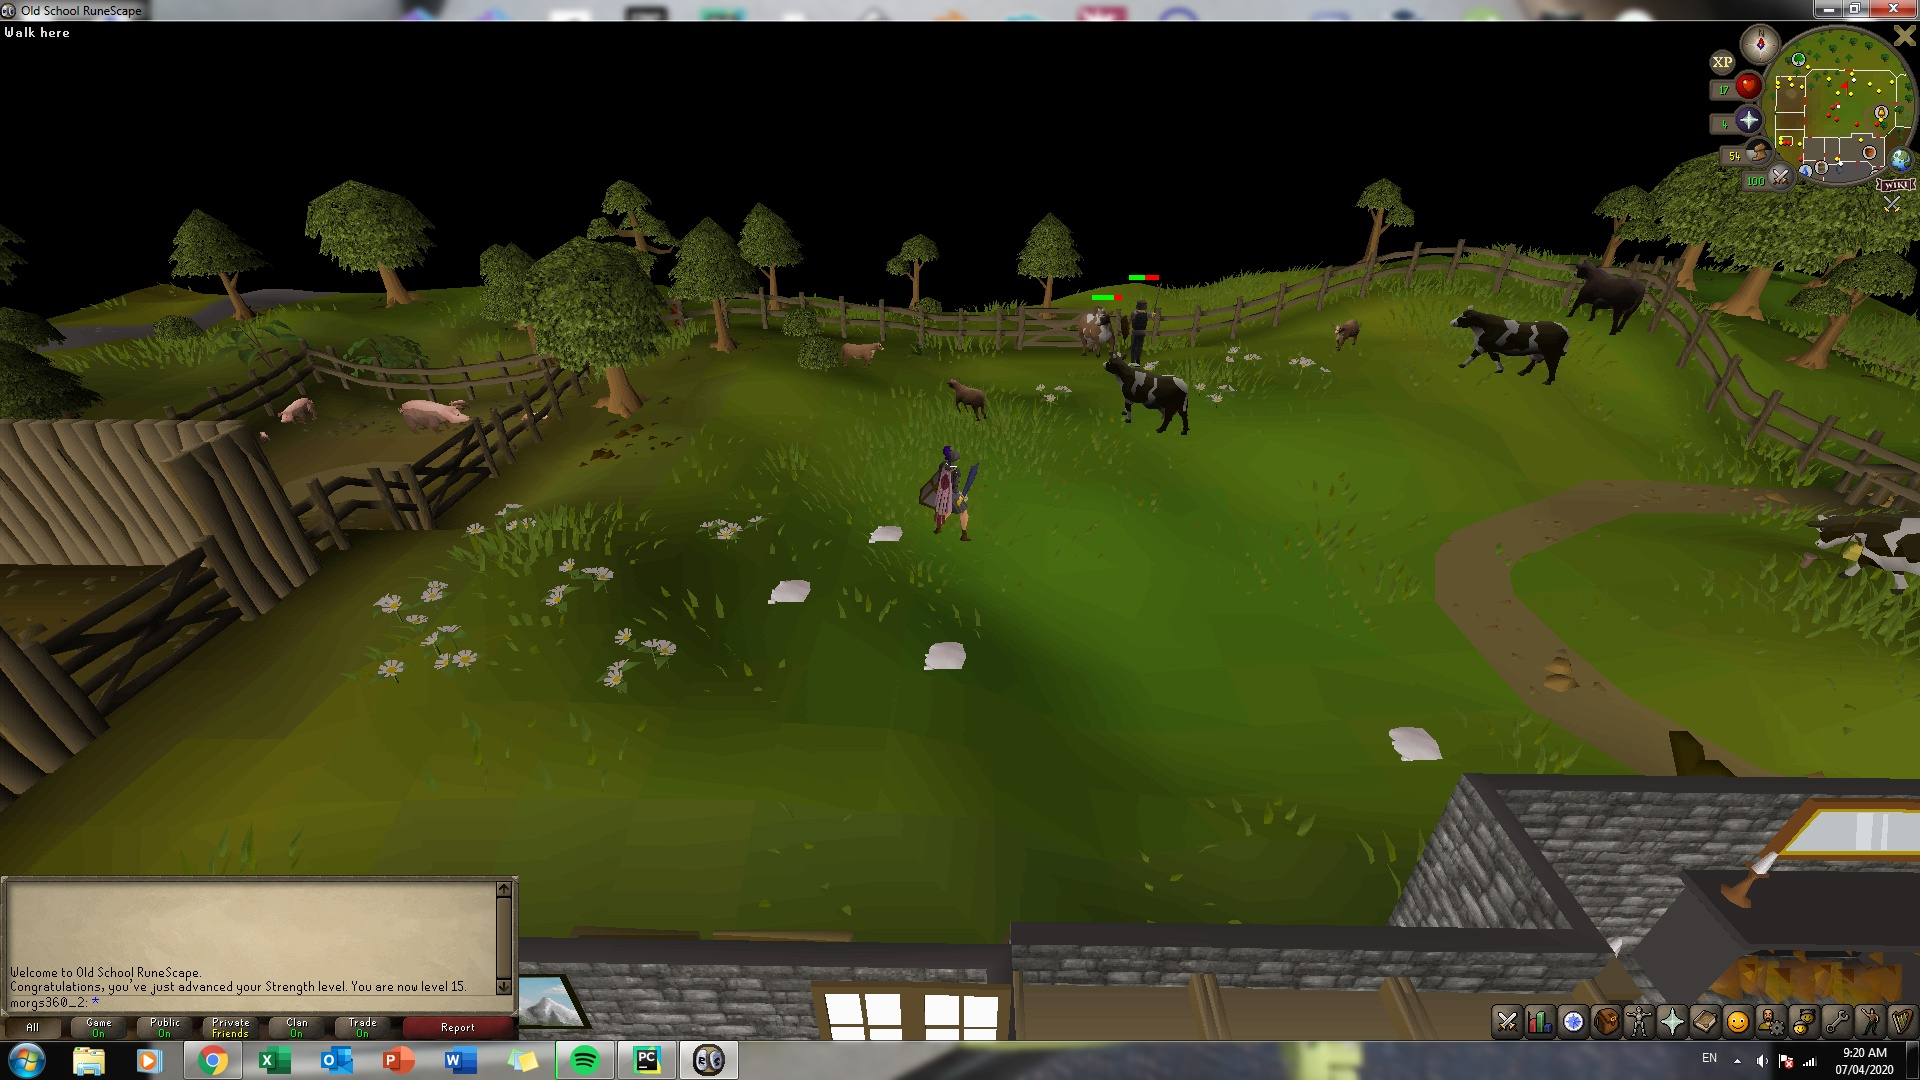cow: (1451, 305, 1571, 391), (1099, 351, 1193, 436), (1569, 257, 1650, 339), (1071, 305, 1124, 363), (943, 375, 993, 422), (837, 337, 886, 370), (1327, 313, 1361, 357)
player: (930, 442, 976, 544)
